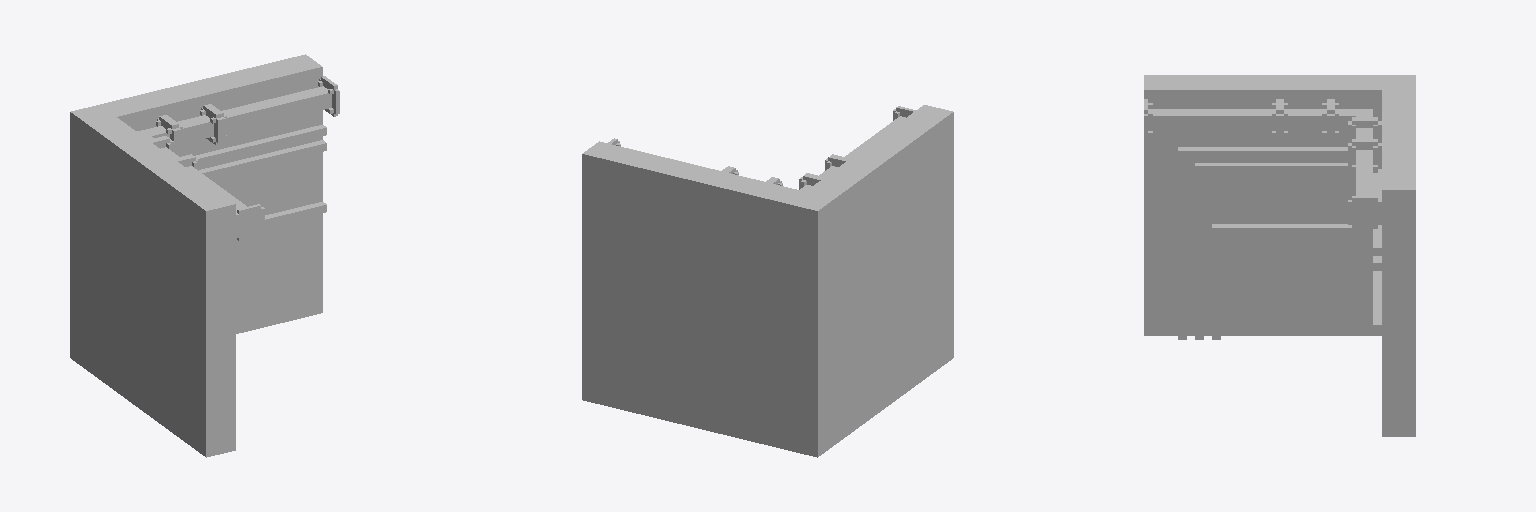
Rendered from Menu Obs-9.obj.
3 views of the same model, side by side, from view 1: azimuth 30°, elevation 25°; view 2: azimuth 150°, elevation 25°; view 3: azimuth 270°, elevation 25° (orthographic).
Parts seen in each view (by area): view 1: Menu Obs-9; view 2: Menu Obs-9; view 3: Menu Obs-9.
Boxes of the visible parts, box(x1,y1,x2,y2) form: Menu Obs-9: box(70, 54, 339, 457); Menu Obs-9: box(582, 105, 953, 457); Menu Obs-9: box(1144, 75, 1415, 436).
Bounding box in the file's own units: 64 × 64 × 64.